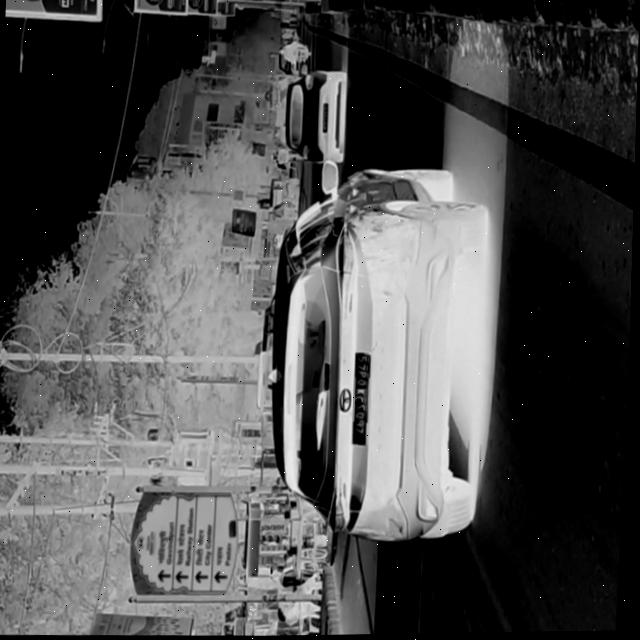0: (358, 412, 368, 418)
5: (359, 356, 370, 363)
6: (358, 371, 369, 379)
7: (358, 403, 368, 411), (358, 364, 368, 371)
9: (359, 381, 368, 387)
C: (358, 396, 368, 403)
IND: (357, 435, 367, 442)
Indian_registered: (355, 353, 373, 445)
K: (357, 389, 368, 395)
M: (357, 427, 367, 435)
P: (357, 420, 367, 426)
